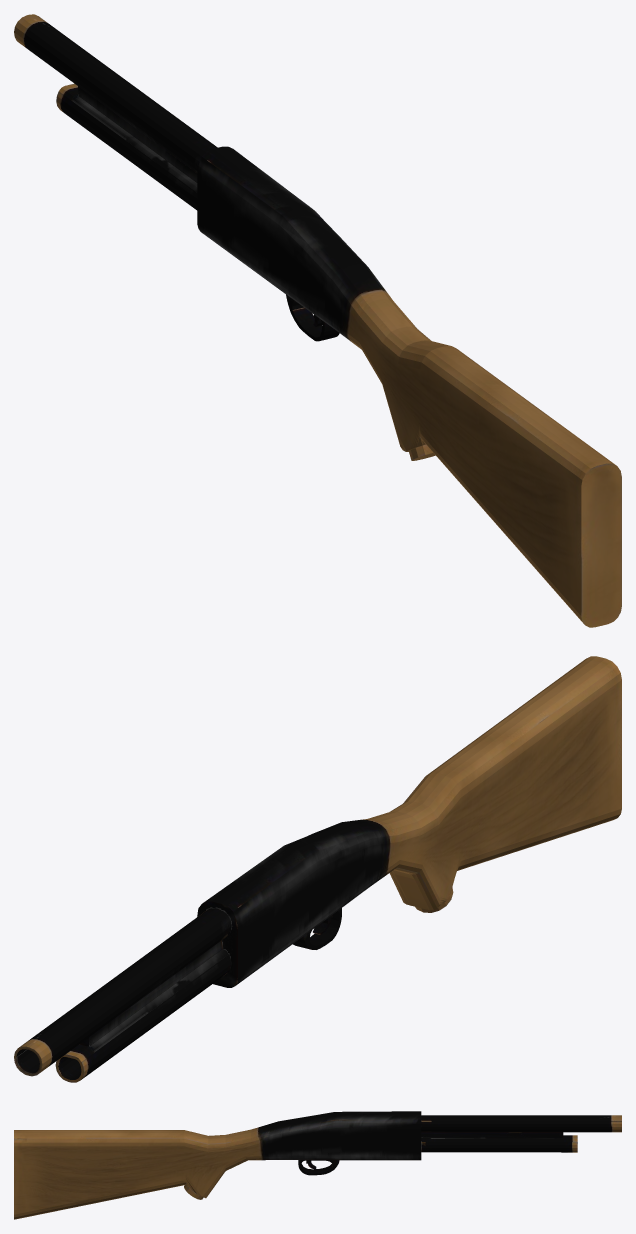
Rendered from shotgun.glb.
3 views of the same model, one above another, from view 1: azimuth 30°, elevation 25°; view 2: azimuth 150°, elevation 25°; view 3: azimuth 270°, elevation 25° (orthographic). The views are drawn at different scales.
Visible parts, largest first — view 1: shotgun.002; view 2: shotgun.002; view 3: shotgun.002.
Part boxes in pixels (bbox=[...]): shotgun.002: bbox=[14, 14, 621, 627]; shotgun.002: bbox=[14, 656, 621, 1082]; shotgun.002: bbox=[14, 1111, 621, 1219].
Bounding box in the file's own units: 0.2209 × 1.01 × 5.34.
2 materials, 1 textured.
